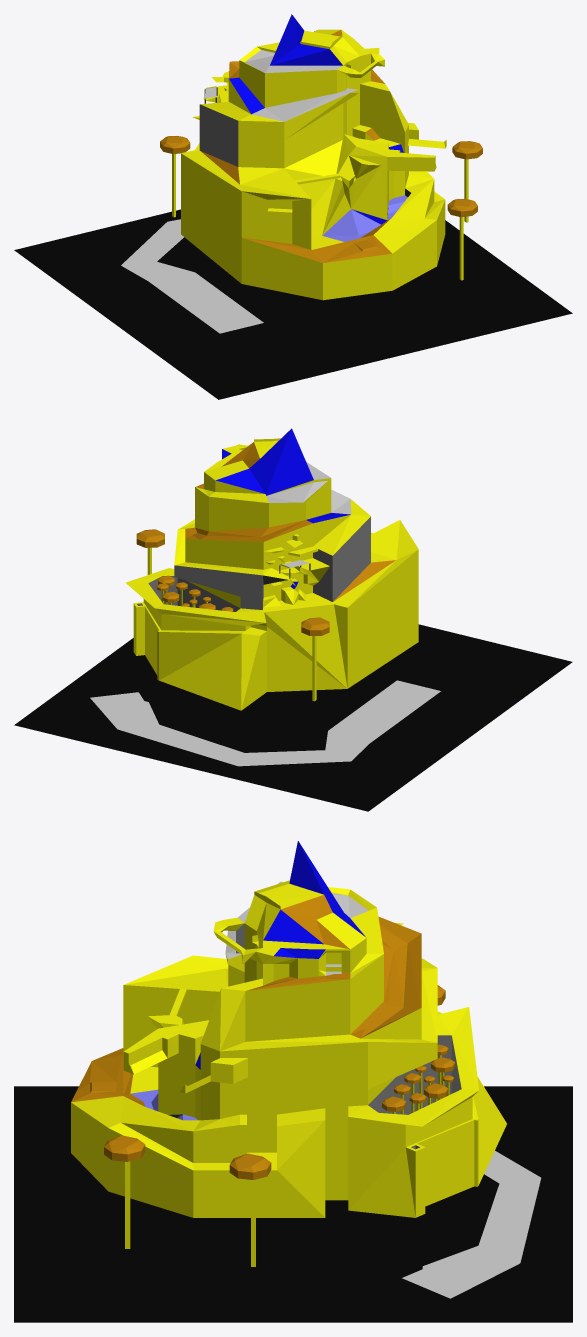
The model's file is ttm_segment7.0x13814.collision.obj.
3 renders of one model, top to bottom at view 1: azimuth 30°, elevation 25°; view 2: azimuth 150°, elevation 25°; view 3: azimuth 270°, elevation 25°, orthographic. The views are drawn at different scales.
Visible parts, largest first — view 1: ttm_segment7_13814_normal, ttm_segment7_13814_deathfloor, ttm_segment7_13814_38, ttm_segment7_13814_climbable, ttm_segment7_13814_very_slippery, ttm_segment7_13814_wall, ttm_segment7_13814_70, ttm_segment7_13814_water_currents; view 2: ttm_segment7_13814_normal, ttm_segment7_13814_deathfloor, ttm_segment7_13814_38, ttm_segment7_13814_wall, ttm_segment7_13814_climbable, ttm_segment7_13814_very_slippery, ttm_segment7_13814_21, ttm_segment7_13814_70; view 3: ttm_segment7_13814_normal, ttm_segment7_13814_deathfloor, ttm_segment7_13814_climbable, ttm_segment7_13814_38, ttm_segment7_13814_very_slippery, ttm_segment7_13814_wall.
Boxes of the visible parts, x1,y1,x2,y2 form: ttm_segment7_13814_normal: [172, 29, 468, 300]; ttm_segment7_13814_deathfloor: [14, 209, 572, 399]; ttm_segment7_13814_38: [121, 219, 263, 333]; ttm_segment7_13814_climbable: [160, 30, 482, 262]; ttm_segment7_13814_very_slippery: [229, 14, 403, 224]; ttm_segment7_13814_wall: [199, 104, 238, 166]; ttm_segment7_13814_70: [252, 65, 358, 121]; ttm_segment7_13814_water_currents: [322, 195, 407, 241]; ttm_segment7_13814_normal: [126, 438, 418, 710]; ttm_segment7_13814_deathfloor: [14, 624, 572, 811]; ttm_segment7_13814_38: [90, 680, 440, 766]; ttm_segment7_13814_wall: [137, 516, 370, 611]; ttm_segment7_13814_climbable: [136, 442, 396, 635]; ttm_segment7_13814_very_slippery: [216, 428, 350, 588]; ttm_segment7_13814_21: [266, 480, 327, 502]; ttm_segment7_13814_70: [306, 462, 351, 514]; ttm_segment7_13814_normal: [71, 880, 506, 1266]; ttm_segment7_13814_deathfloor: [14, 1086, 572, 1322]; ttm_segment7_13814_climbable: [71, 895, 455, 1179]; ttm_segment7_13814_38: [402, 1151, 541, 1298]; ttm_segment7_13814_very_slippery: [195, 841, 365, 1069]; ttm_segment7_13814_wall: [236, 923, 461, 1149].
Size of the model in its own units: 16 by 11.5 by 16.
